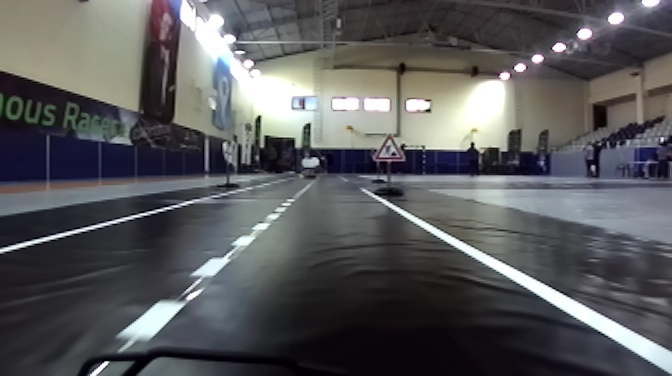yol_yapimi: (373, 135, 404, 167)
